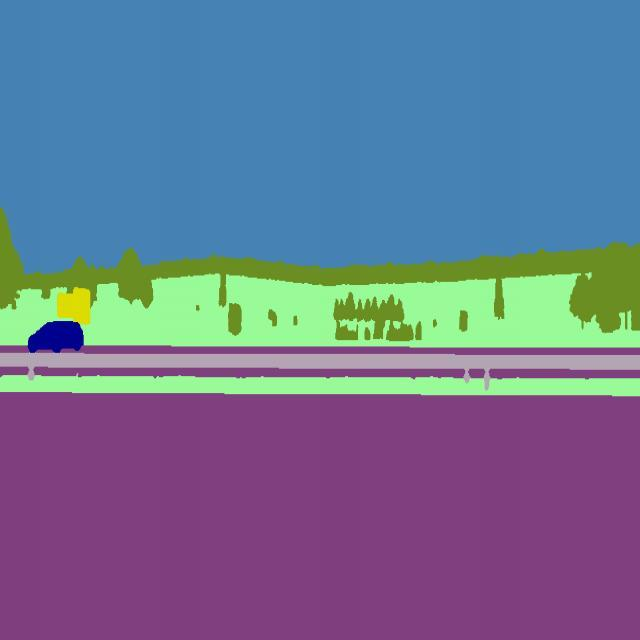safe: (22, 311, 90, 355)
